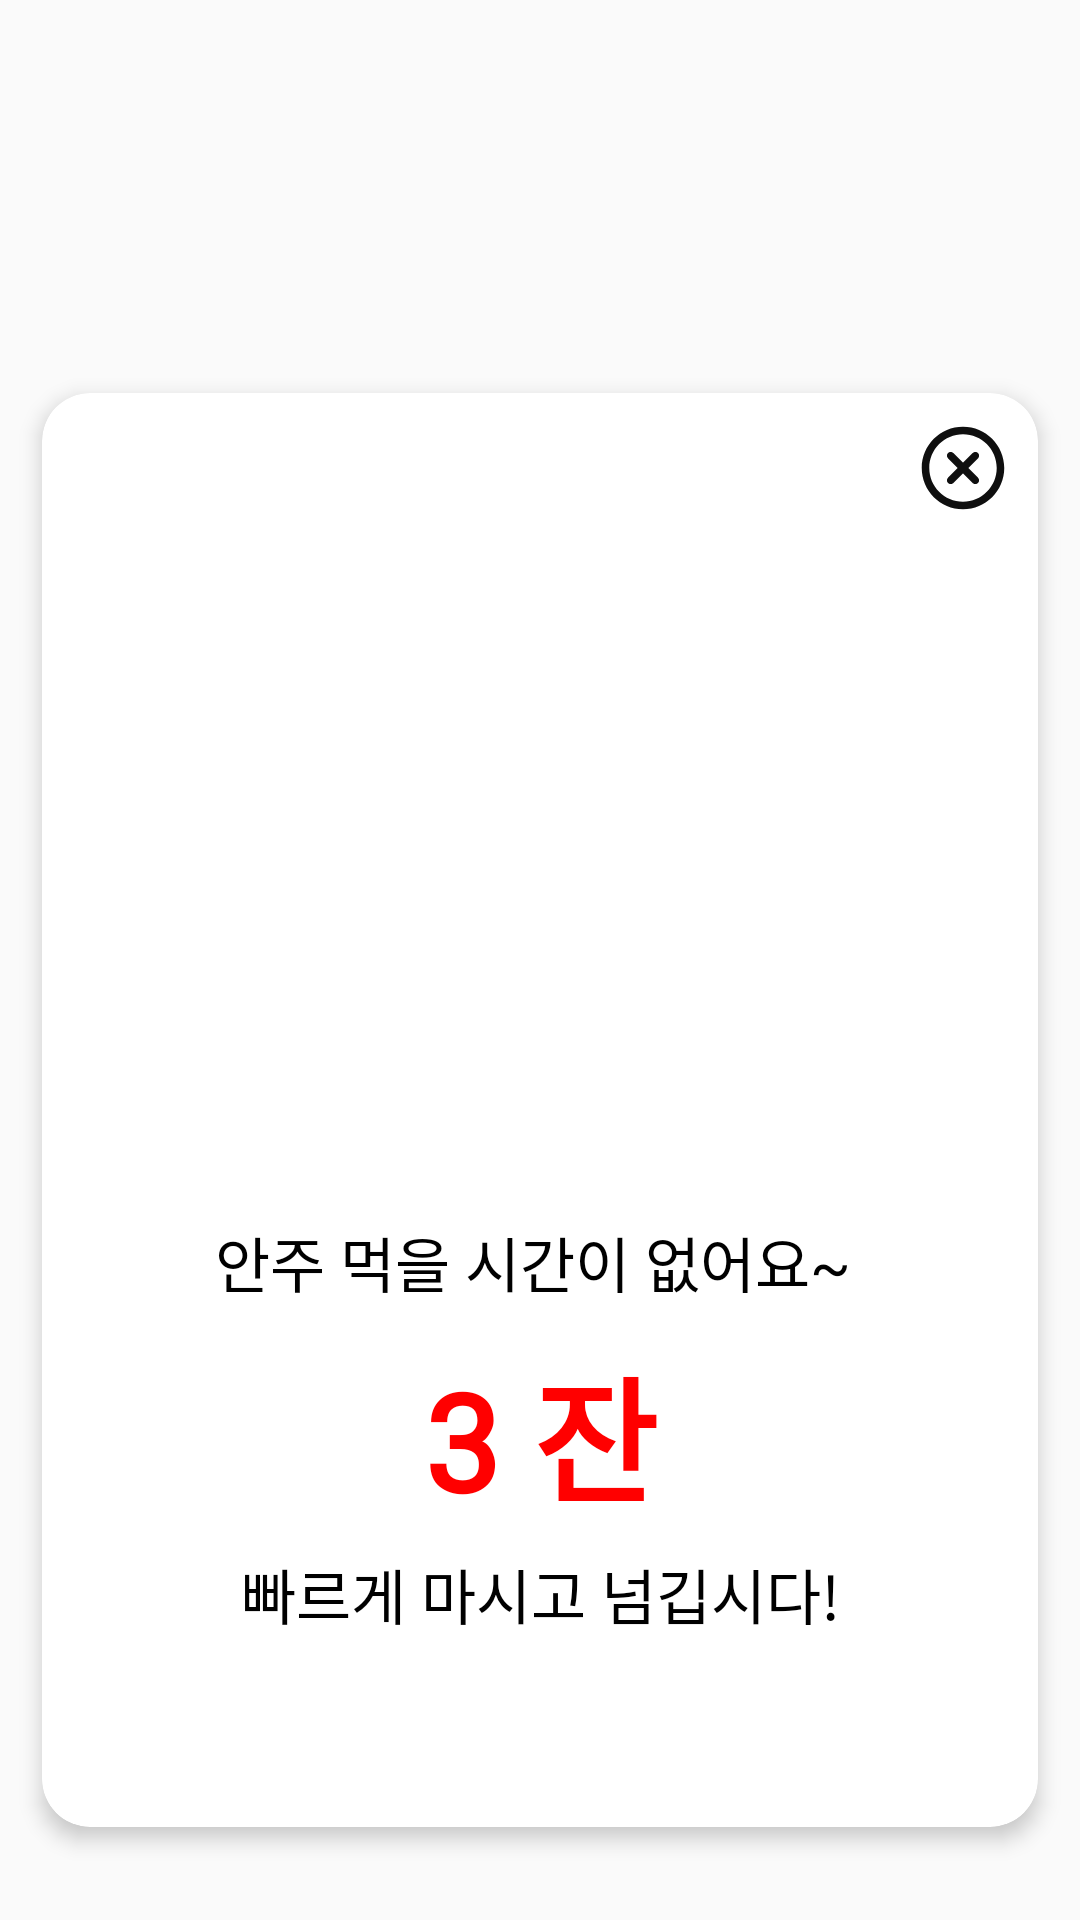

Named icons in this screenshot (1080px×1920px) and their bounding boxes, (x1, y1, x2, y2):
close button: (921, 426, 1005, 510)
